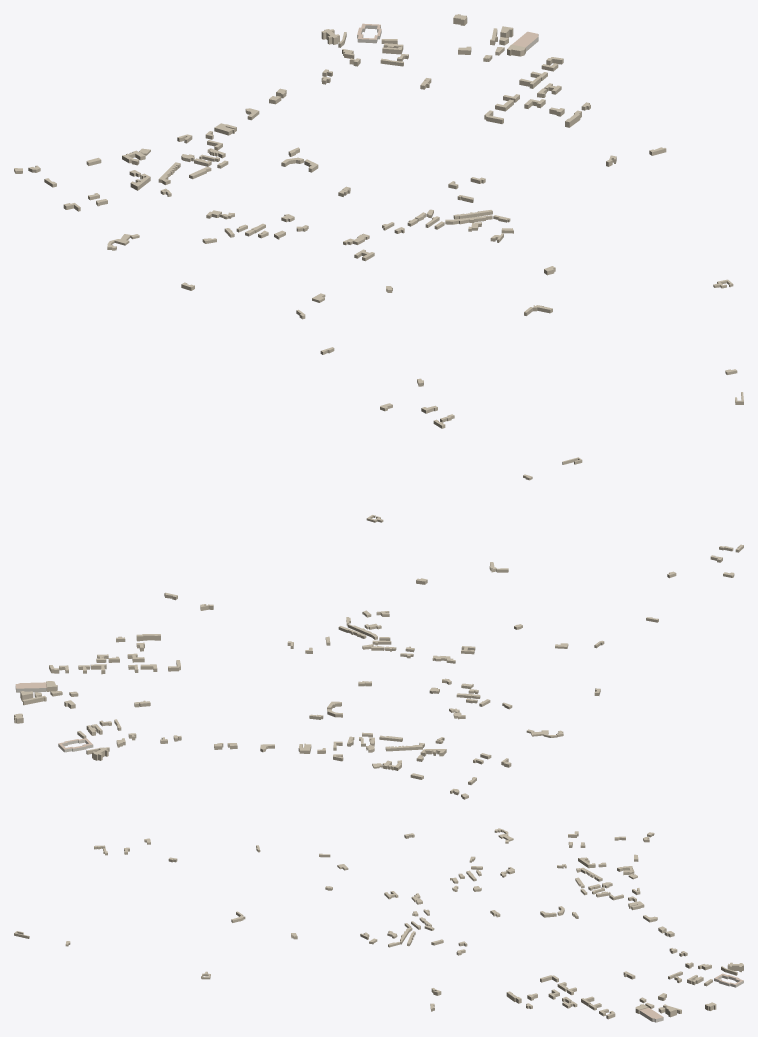
3 renders of one model, top to bottom at view 1: azimuth 30°, elevation 25°; view 2: azimuth 150°, elevation 25°; view 3: azimuth 270°, elevation 25°, orthographic. The views are drawn at different scales.
Bounding box in the file's own units: 1566 × 37.39 × 2485.
